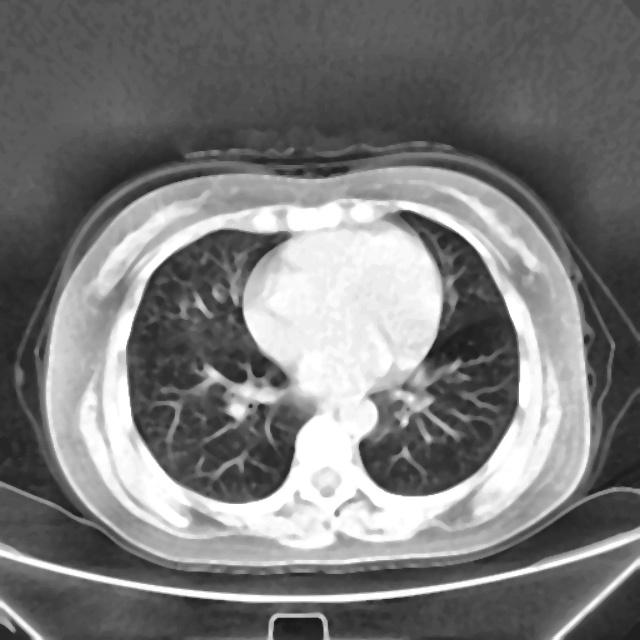covid: (20, 142, 609, 575)
